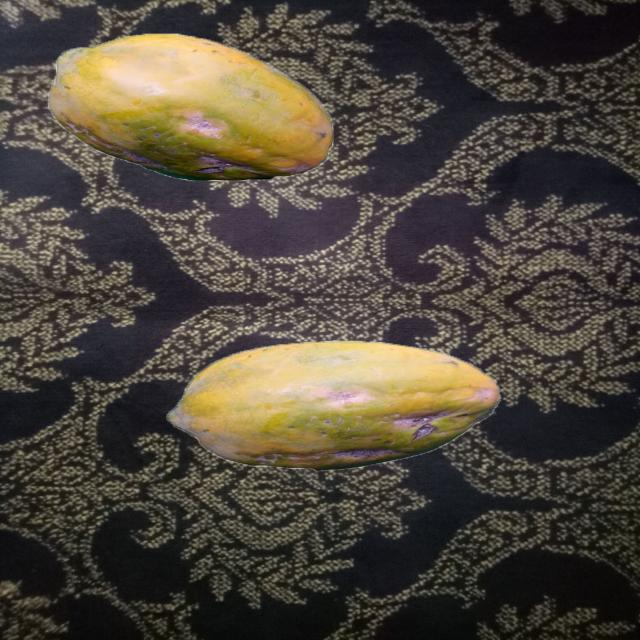Pepaya rippen: (40, 26, 351, 201), (163, 337, 513, 469)
